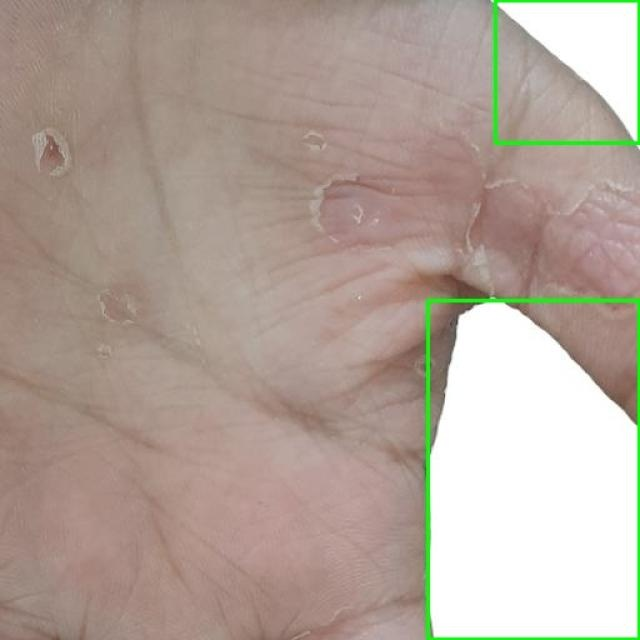Scabies: (428, 300, 639, 639), (495, 0, 639, 142)
